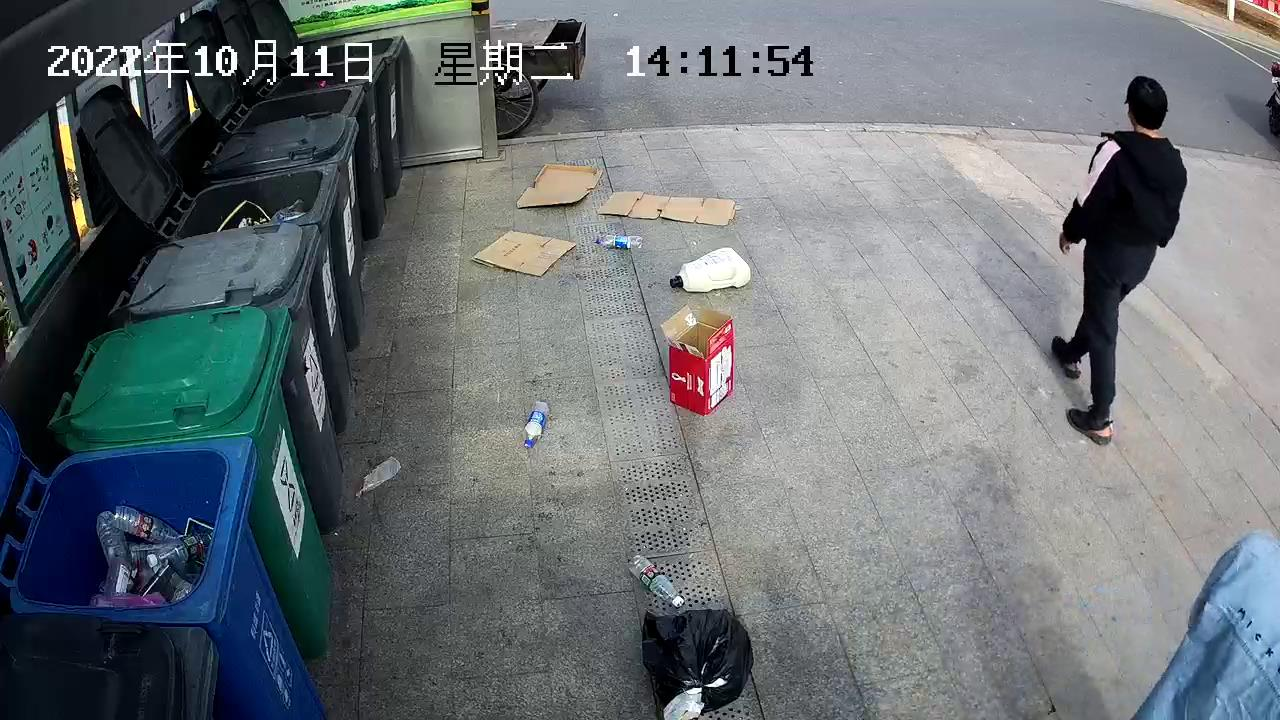garbage-bag: (638, 606, 754, 720)
person: (1044, 72, 1191, 446)
suliaozhipin: (668, 243, 754, 296), (625, 549, 685, 608), (352, 453, 404, 498), (519, 398, 550, 452), (592, 230, 645, 252)
zhizhipin: (658, 302, 737, 414), (595, 187, 741, 229), (469, 227, 579, 279), (515, 160, 606, 209)
